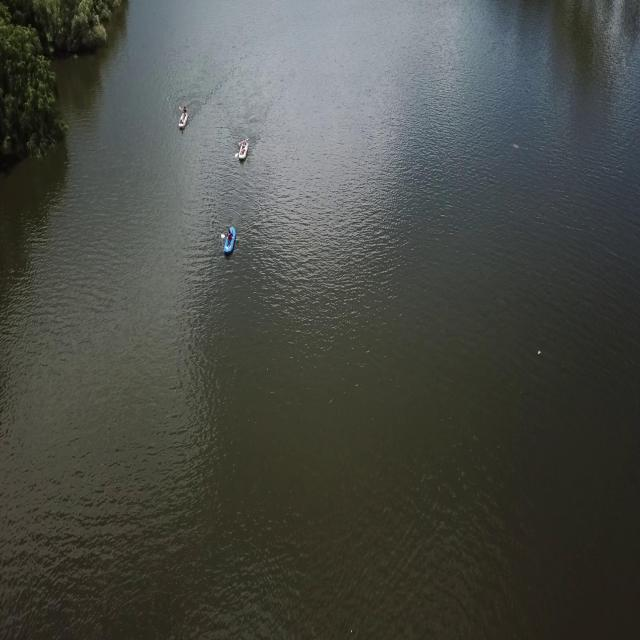kayak: (222, 223, 238, 257), (238, 134, 250, 164), (178, 104, 190, 134)
